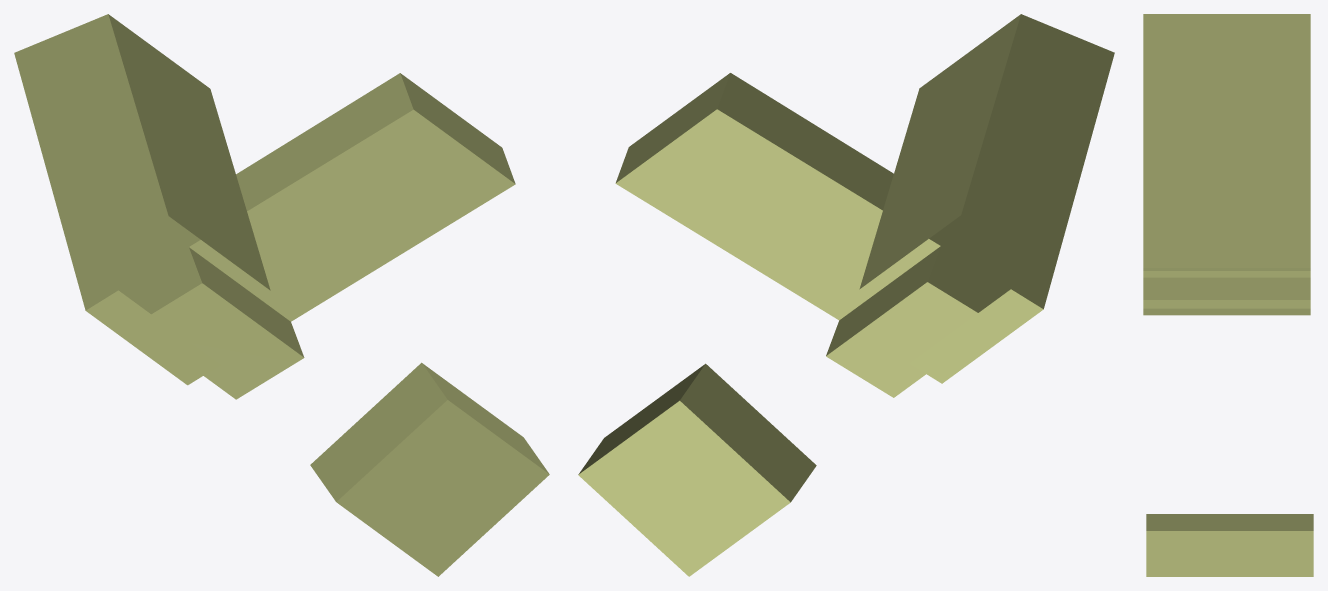
3 renders of one model, left to right at view 1: azimuth 30°, elevation 25°; view 2: azimuth 150°, elevation 25°; view 3: azimuth 270°, elevation 25°, orthographic. The views are drawn at different scales.
Visible parts, largest first — view 1: 0_1_2_0_3_3_3_3; view 2: 0_1_2_0_3_3_3_3; view 3: 0_1_2_0_3_3_3_3.
Part boxes in pixels (x1,y1,x2,y2): 0_1_2_0_3_3_3_3: [14, 14, 549, 576]; 0_1_2_0_3_3_3_3: [578, 14, 1114, 576]; 0_1_2_0_3_3_3_3: [1143, 14, 1313, 576].
Size of the model in its own units: 22.15 by 26.52 by 9.15.
